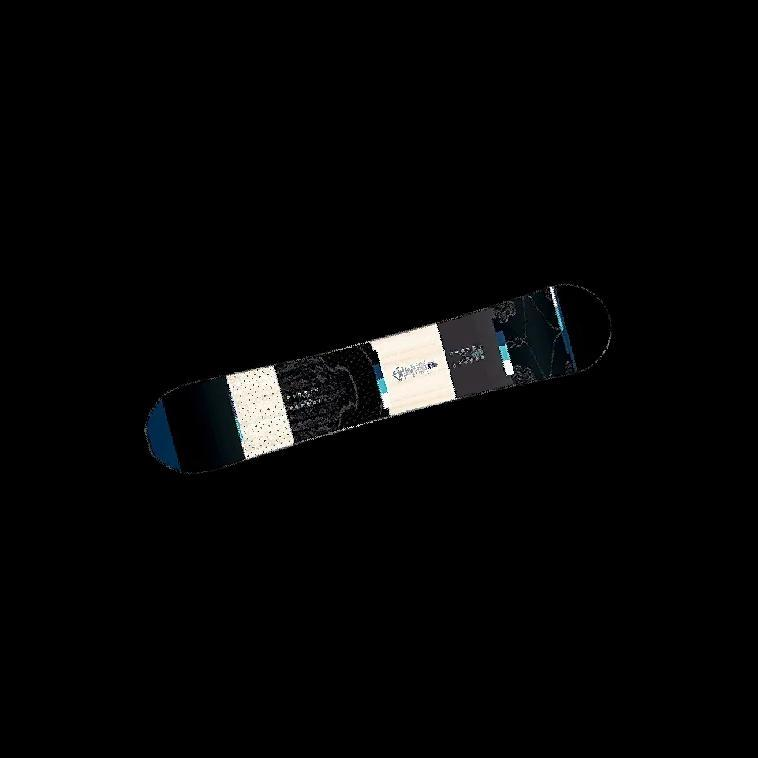Snowboard: (126, 276, 614, 466)
